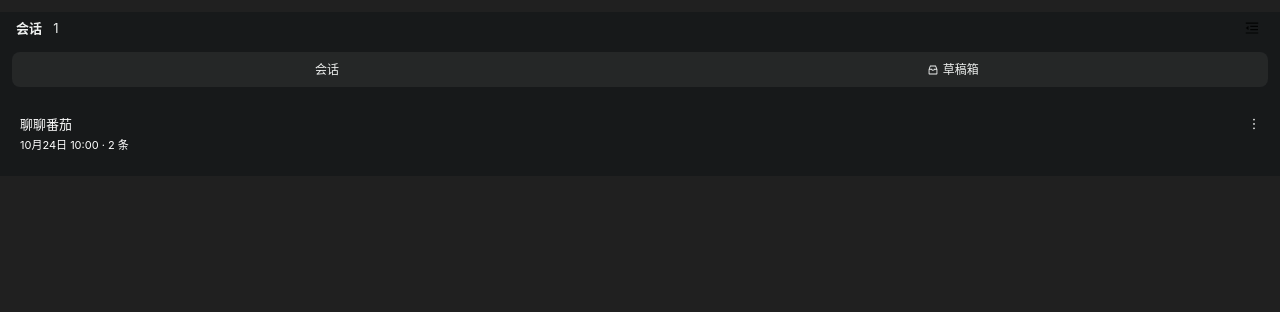
Scenario: 会话草稿箱 › 归档后移出会话列表，使用当前身份操作且不触发打开
Step 1. Click the button named "会话操作：聊聊番茄" → (1254,124), box [1240, 110, 1268, 138]
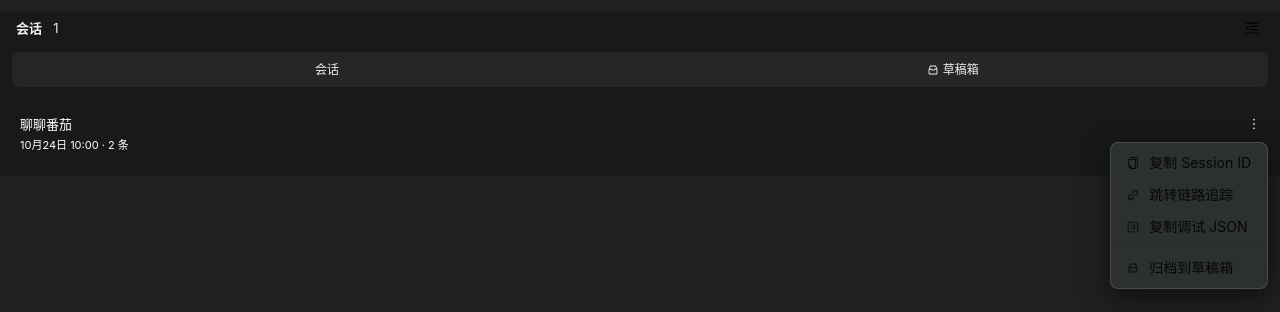
Step 2. Click the menu item "归档到草稿箱" → (1180,268), box [1127, 259, 1233, 276]
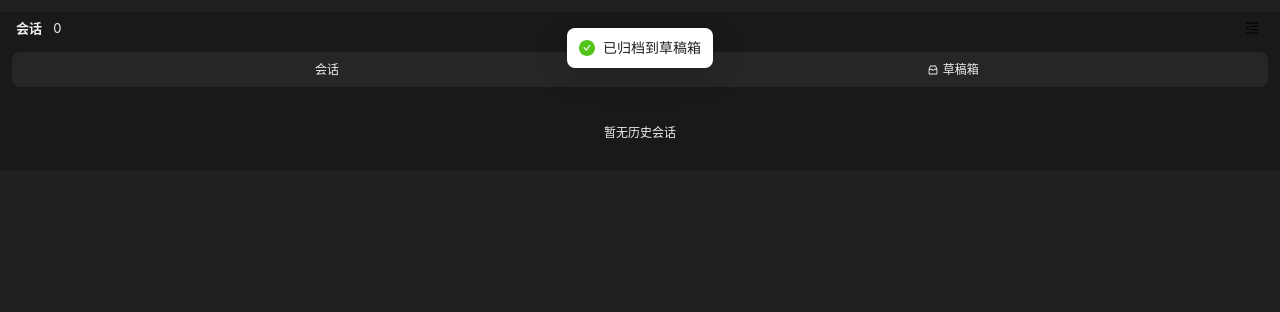
Now the text "暂无历史会话" is shown, box [604, 125, 676, 140]
